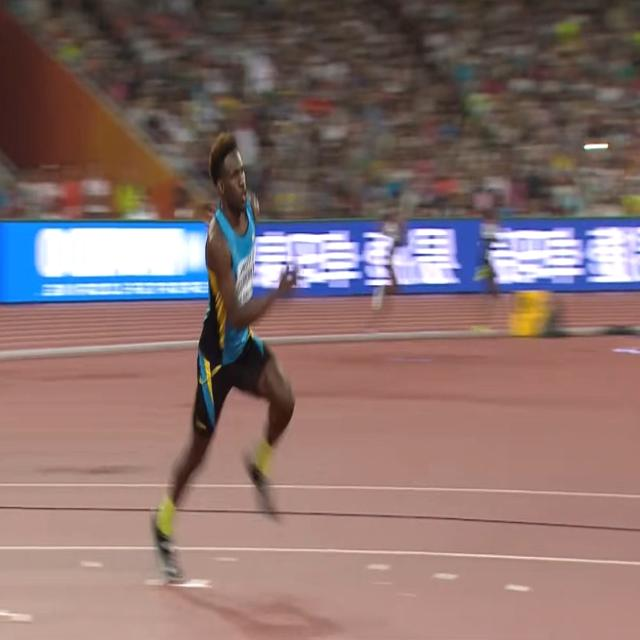run: (150, 129, 294, 582)
